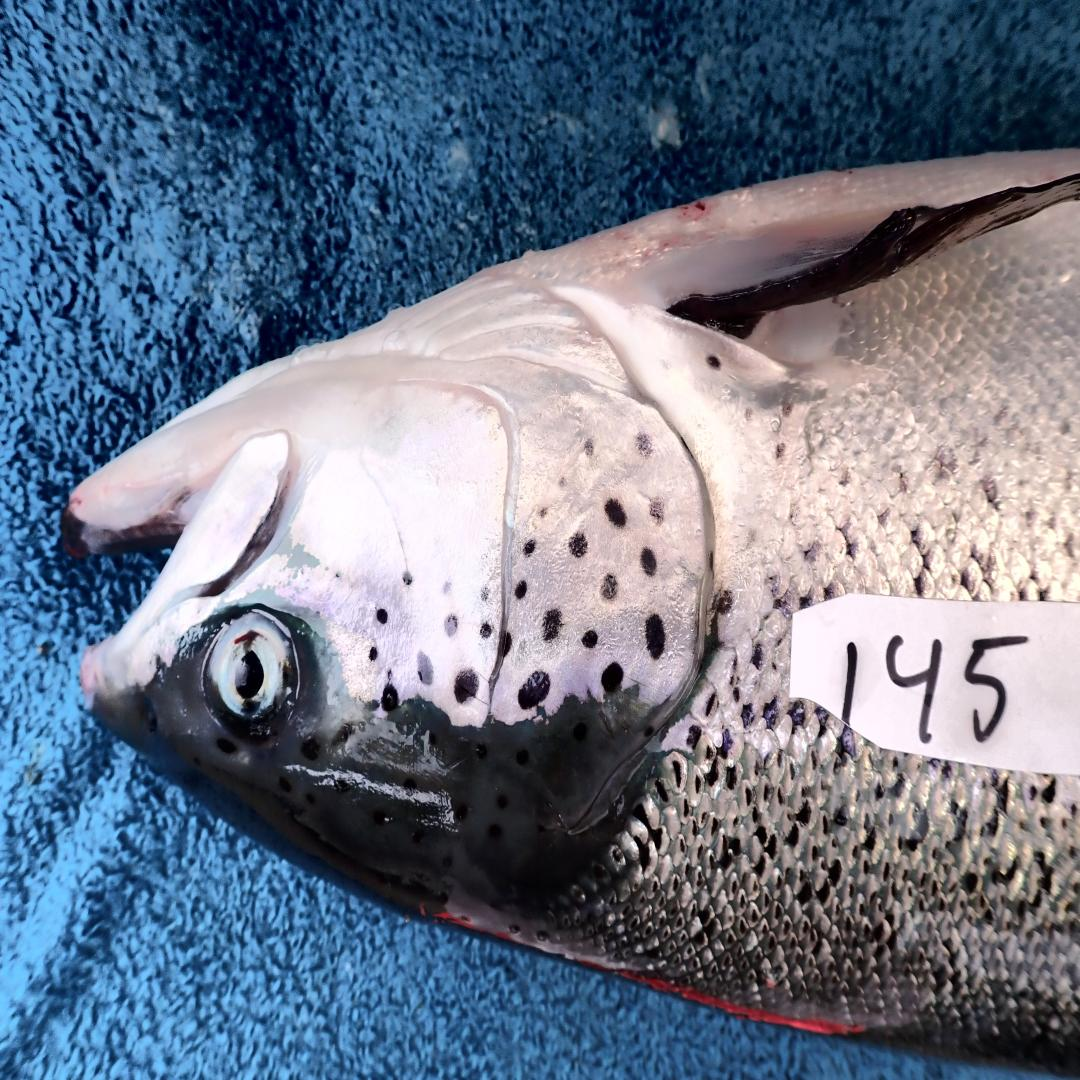spot: (519, 672, 551, 709), (645, 613, 667, 658), (454, 669, 479, 703), (601, 664, 624, 692), (542, 608, 561, 641), (605, 498, 626, 526), (418, 652, 435, 683), (382, 683, 399, 712), (570, 532, 589, 557), (635, 433, 654, 458), (641, 548, 656, 577), (601, 574, 618, 599), (582, 630, 597, 650), (650, 501, 664, 520), (445, 616, 458, 636), (502, 633, 513, 655), (515, 579, 527, 599), (523, 540, 536, 557), (375, 608, 388, 624), (481, 585, 490, 603), (481, 622, 491, 638), (584, 439, 593, 456), (403, 571, 413, 585), (538, 507, 548, 521), (369, 647, 378, 661), (444, 583, 451, 599), (559, 475, 566, 489)
